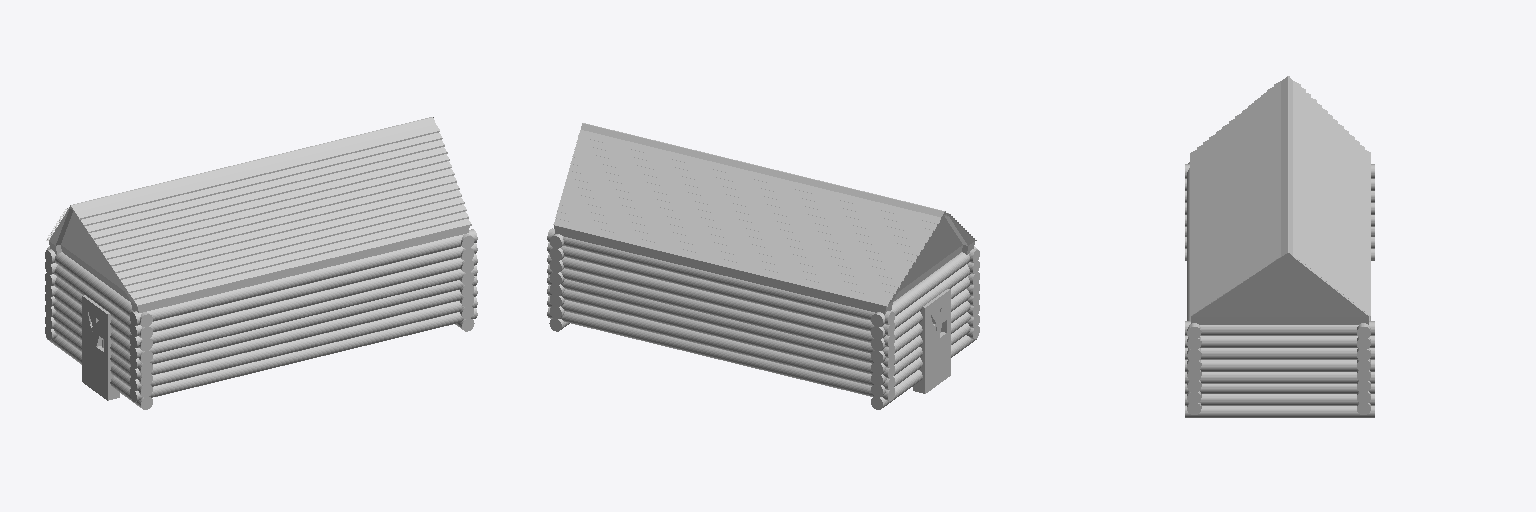
The model's file is woodcabin.obj.
The picture shows the model from 3 angles: view 1: azimuth 30°, elevation 25°; view 2: azimuth 150°, elevation 25°; view 3: azimuth 270°, elevation 25°; orthographic projection.
Parts seen in each view (by area): view 1: Cube_Cube.001, Cylinder.015, Cylinder.009, Cylinder.013, Cylinder.014, Cylinder.008, Cylinder.010, Cylinder.012, Cylinder.011, Cylinder.023, Cylinder.022, Cylinder.016 (+5 smaller); view 2: Cube_Cube.001, Cylinder.005, Cylinder.001, Cylinder.006, Cylinder, Cylinder.002, Cylinder.004, Cylinder.003, Cylinder.007, Cylinder.023, Cylinder.022, Cylinder.016 (+5 smaller); view 3: Cube_Cube.001, Cylinder.024, Cylinder.030, Cylinder.025, Cylinder.027, Cylinder.029, Cylinder.028, Cylinder.031, Cylinder.026, Cylinder.015.
Boxes of the visible parts, x1=… form: Cube_Cube.001: x1=46, y1=117, x2=471, y2=400; Cylinder.015: x1=130, y1=229, x2=477, y2=325; Cylinder.009: x1=130, y1=297, x2=477, y2=390; Cylinder.013: x1=130, y1=254, x2=477, y2=347; Cylinder.014: x1=130, y1=243, x2=477, y2=336; Cylinder.008: x1=130, y1=308, x2=477, y2=401; Cylinder.010: x1=130, y1=286, x2=477, y2=379; Cylinder.012: x1=130, y1=265, x2=477, y2=358; Cylinder.011: x1=130, y1=276, x2=477, y2=368; Cylinder.023: x1=47, y1=246, x2=152, y2=326; Cylinder.022: x1=54, y1=265, x2=152, y2=339; Cylinder.016: x1=46, y1=335, x2=152, y2=409; Cube_Cube.001: x1=553, y1=123, x2=976, y2=393; Cylinder.005: x1=547, y1=254, x2=894, y2=347; Cylinder.001: x1=547, y1=296, x2=894, y2=390; Cylinder.006: x1=547, y1=242, x2=894, y2=335; Cylinder: x1=547, y1=307, x2=894, y2=400; Cylinder.002: x1=547, y1=285, x2=894, y2=378; Cylinder.004: x1=547, y1=265, x2=894, y2=358; Cylinder.003: x1=547, y1=275, x2=894, y2=367; Cylinder.007: x1=547, y1=228, x2=894, y2=325; Cylinder.023: x1=871, y1=246, x2=976, y2=326; Cylinder.022: x1=871, y1=264, x2=970, y2=339; Cylinder.016: x1=871, y1=335, x2=976, y2=409; Cube_Cube.001: x1=1190, y1=76, x2=1370, y2=324; Cylinder.024: x1=1185, y1=406, x2=1374, y2=417; Cylinder.030: x1=1185, y1=336, x2=1374, y2=347; Cylinder.025: x1=1185, y1=394, x2=1374, y2=405; Cylinder.027: x1=1185, y1=372, x2=1374, y2=383; Cylinder.029: x1=1185, y1=348, x2=1374, y2=359; Cylinder.028: x1=1185, y1=360, x2=1374, y2=371; Cylinder.031: x1=1185, y1=321, x2=1374, y2=335; Cylinder.026: x1=1185, y1=384, x2=1374, y2=393; Cylinder.015: x1=1187, y1=162, x2=1201, y2=338.
Size of the model in its own units: 58.5 by 28.29 by 26.45.